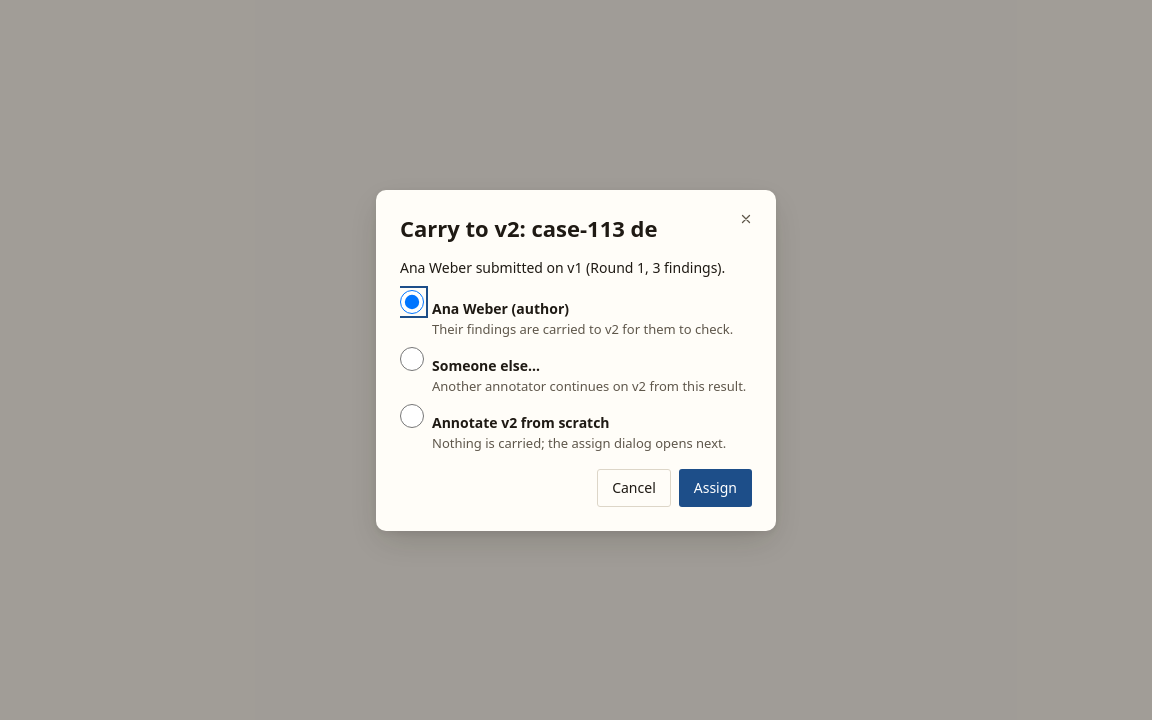
Test case: CarryDialog › HANDOVER_NOT_INDEPENDENT message
expect the text "Ana Weber submitted on v1 (Round 1, 3 findings)." is shown: met, box 400,258 -> 752,278
Click the radio button labelled "Someone else…": (412, 358) 400,346 -> 424,370
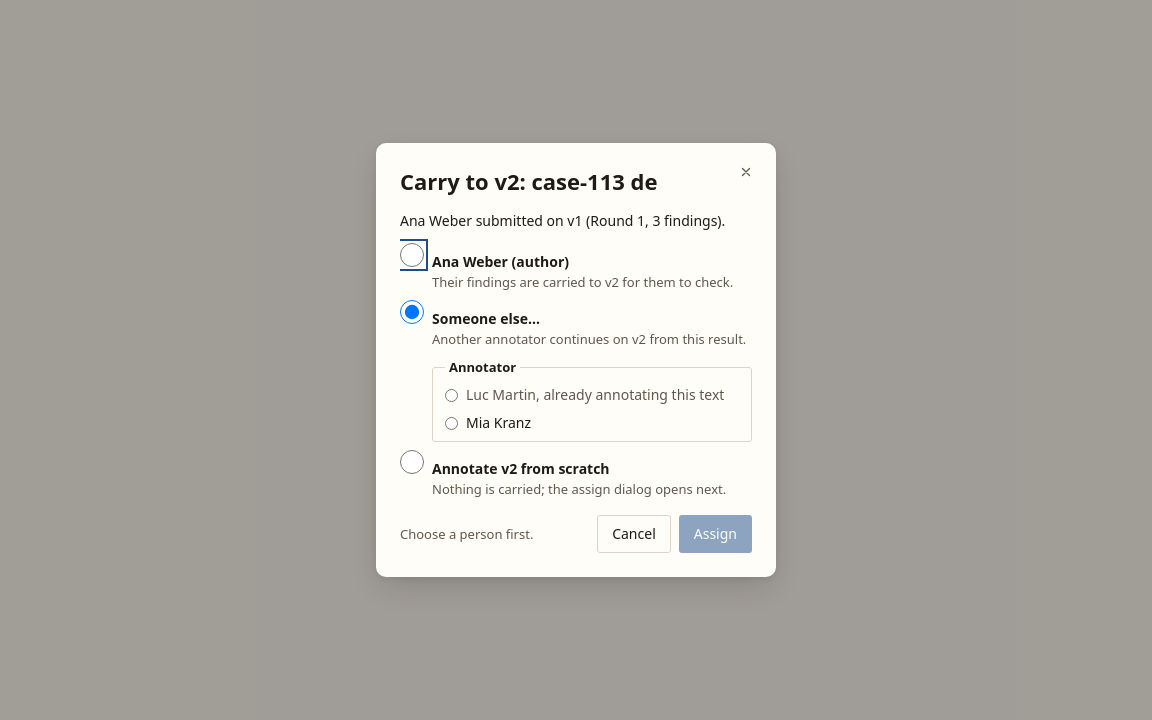
Click the radio button labelled "Mia Kranz": (452, 423) 445,416 -> 458,430
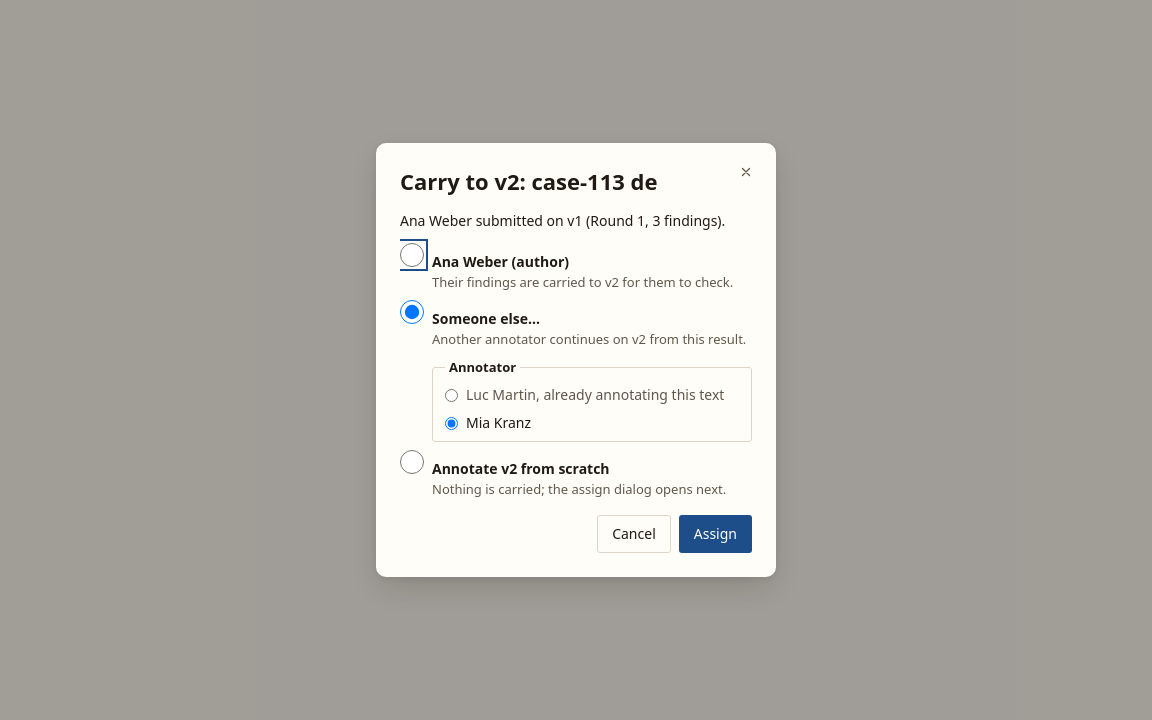
Click the button "Assign": (715, 534) 679,515 -> 752,553
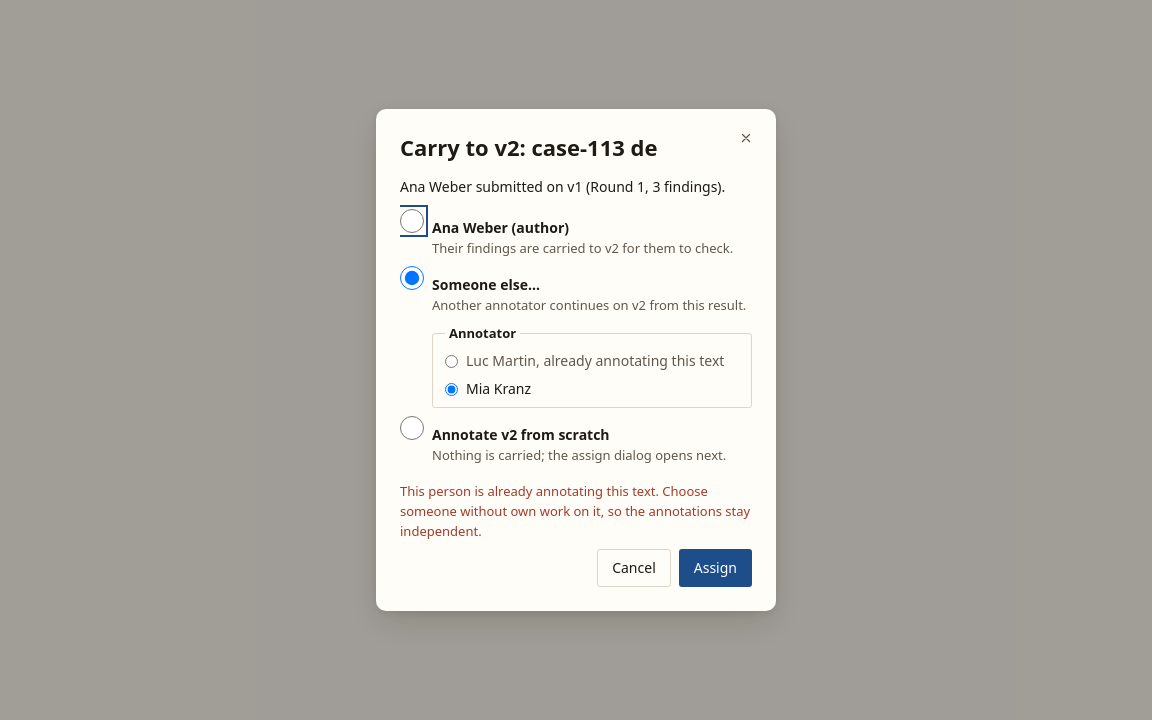
expect the radio button labelled "Mia Kranz" is checked: met, box 445,382 -> 458,396
expect the text "This person is already annotating this text. Choose someone without own work on it, so the annotations stay independent." is shown: met, box 400,482 -> 750,540
